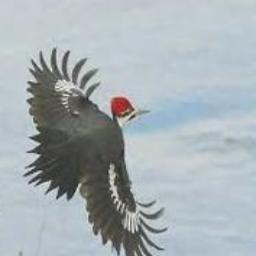Woodpecker: (23, 45, 169, 256)
